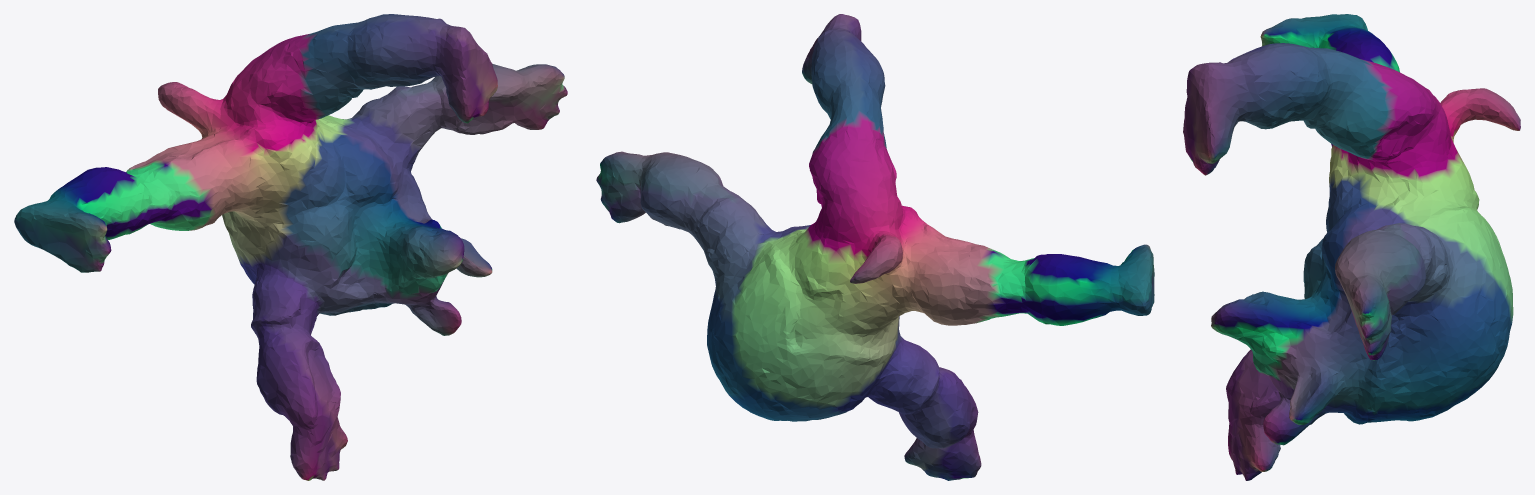
File: armadillo-2.off.obj
3 renders of one model, left to right at view 1: azimuth 30°, elevation 25°; view 2: azimuth 150°, elevation 25°; view 3: azimuth 270°, elevation 25°, orthographic. The views are drawn at different scales.
Bounding box in the file's own units: 1.67 × 1.24 × 0.7951.
